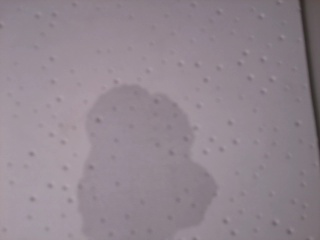Water_detected: (94, 99, 194, 223)
